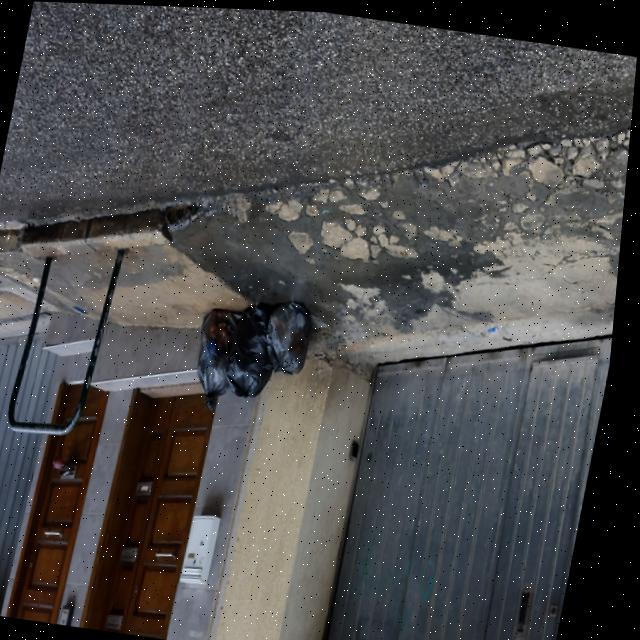Mixed Waste -Black Bag-: (188, 301, 253, 414), (230, 293, 291, 400), (263, 288, 327, 379)
